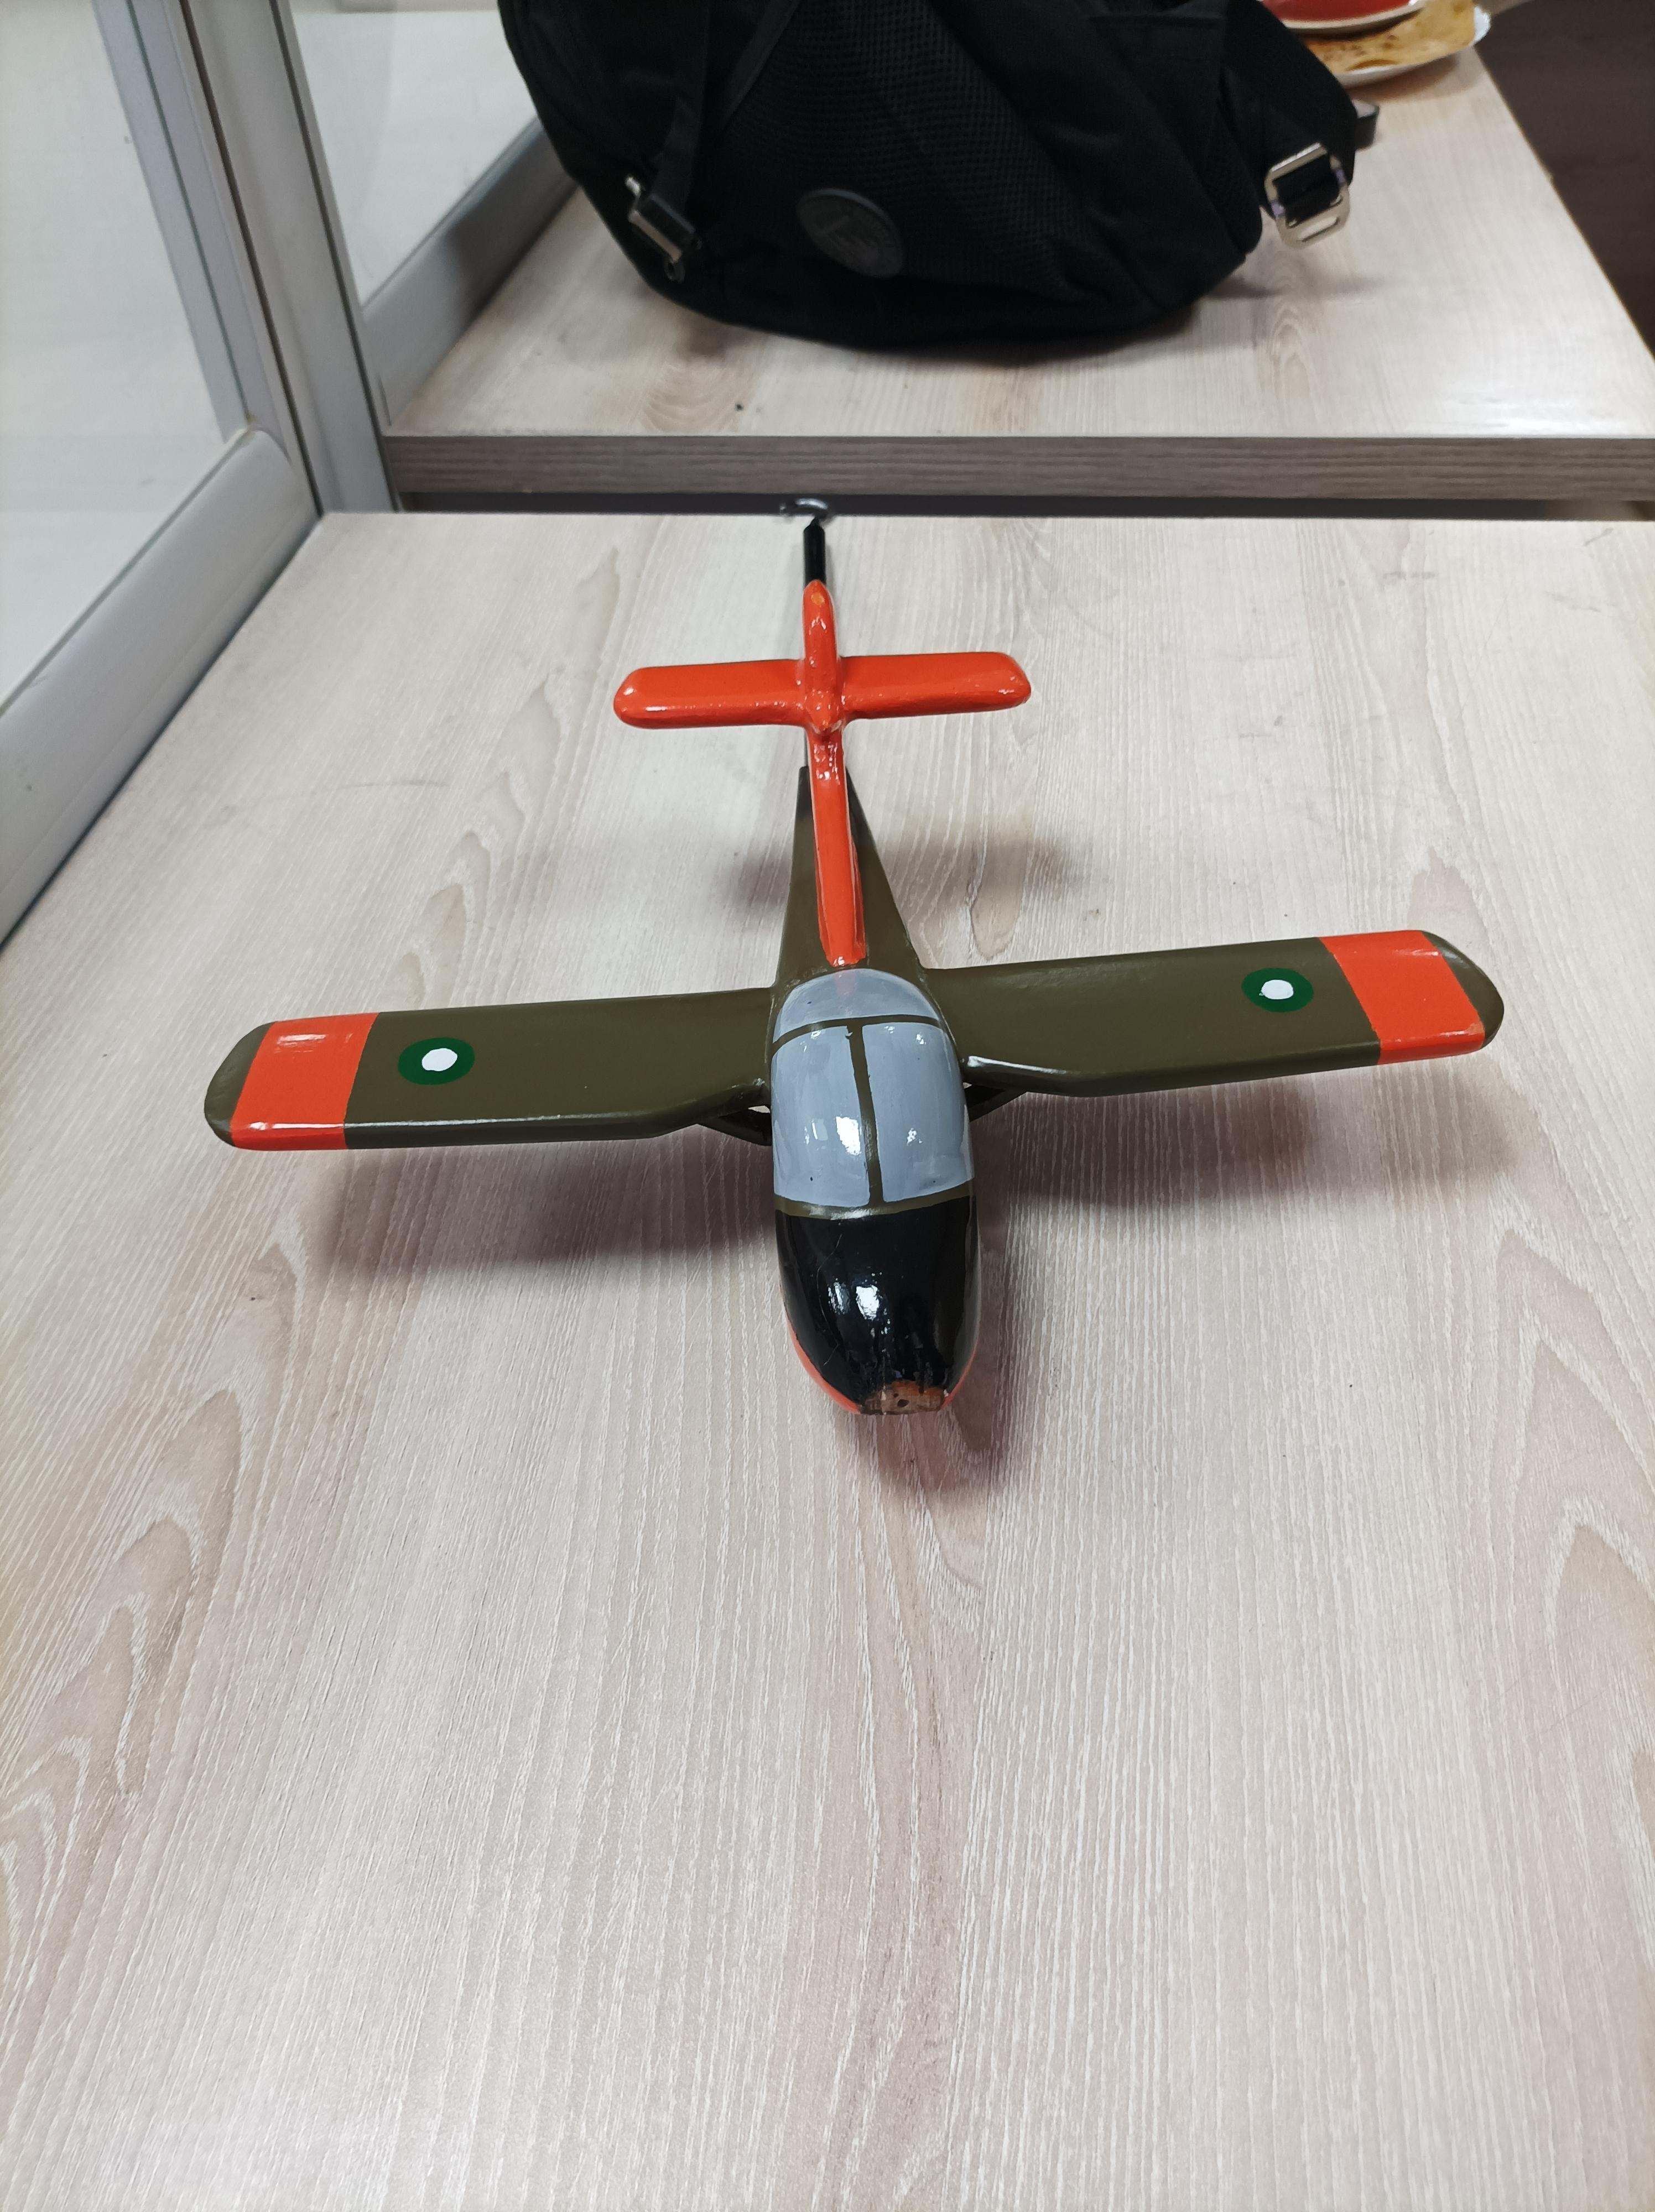Airplane: (177, 483, 1535, 1440)
